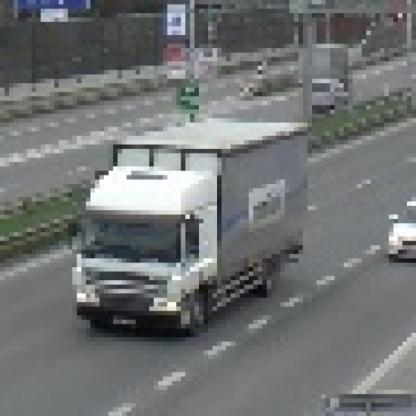truck: (60, 115, 309, 338)
